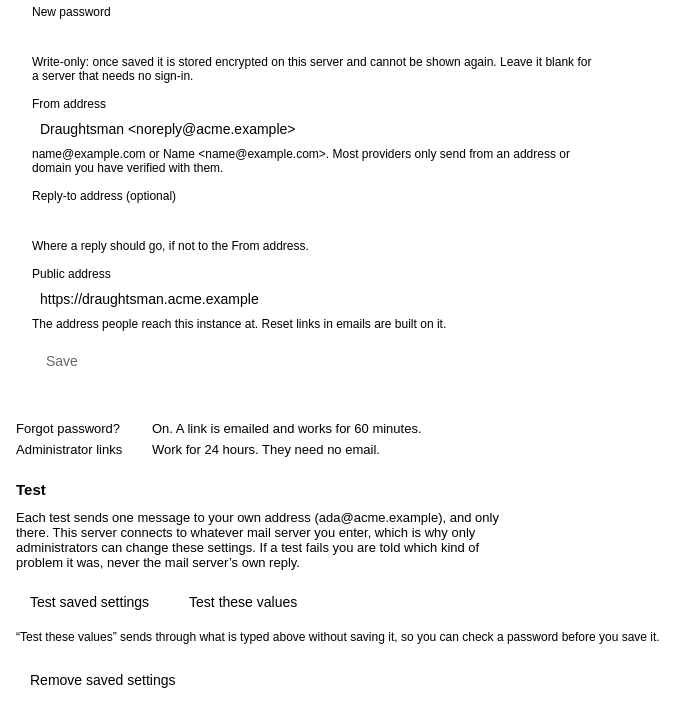
Test case: EmailPage › testing › shows the failure as an alert, naming which settings were tested
The width and height of the screenshot is (676, 707).
(page scrolled)
Click the button "Test saved settings": {"x": 90, "y": 602} [16,586,163,618]
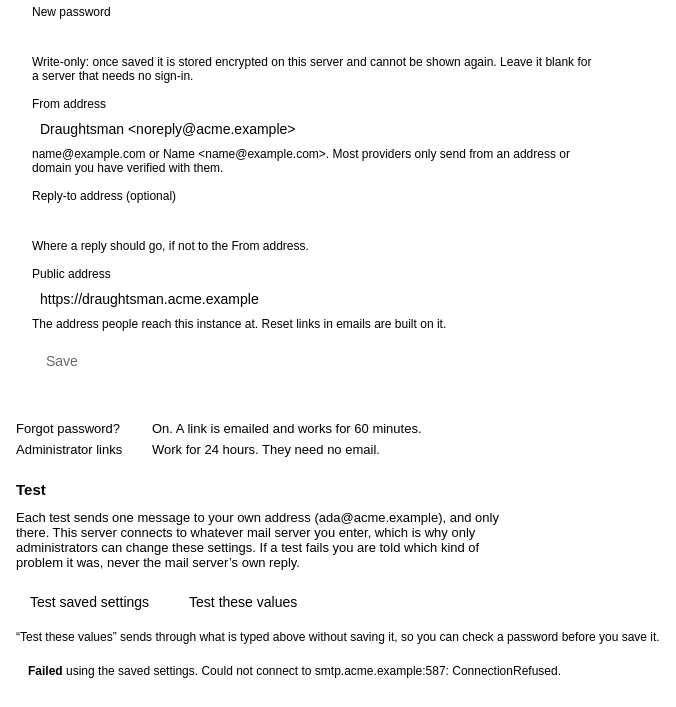
Check: the message with test id "email-test-result" shows "Failed using the saved settings. Could not connect to smtp.acme.example:587", box [28,664,561,678]
